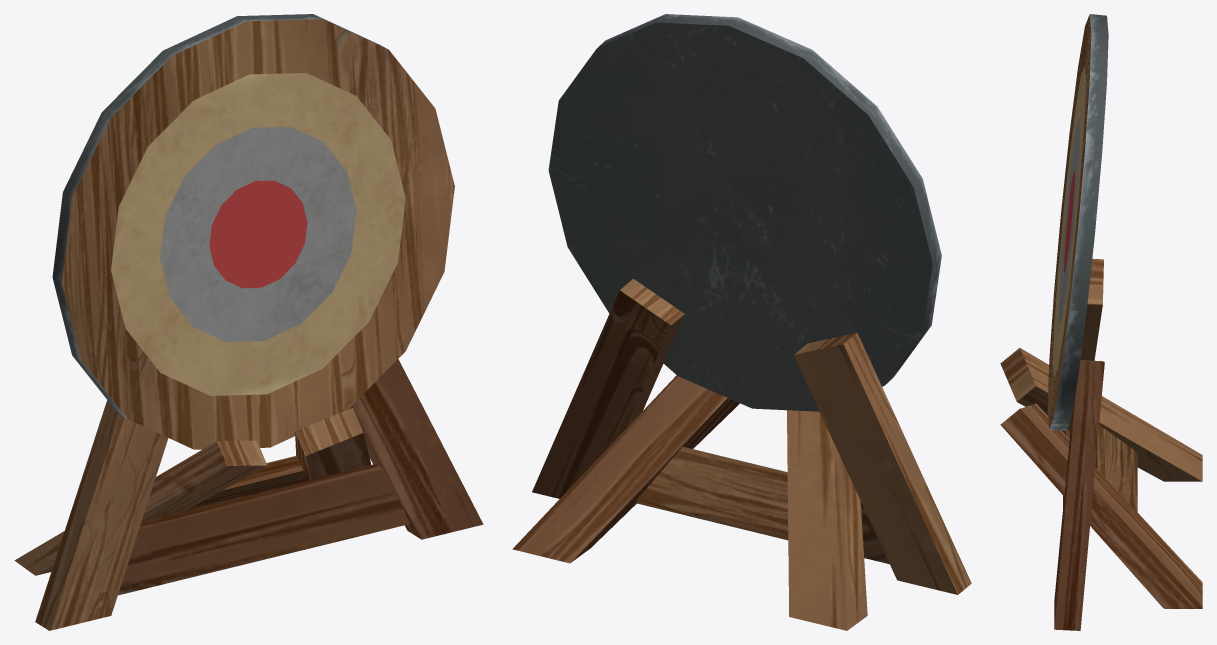
File: Target_Shooting.fbx
3 renders of one model, left to right at view 1: azimuth 30°, elevation 25°; view 2: azimuth 150°, elevation 25°; view 3: azimuth 270°, elevation 25°, orthographic. The views are drawn at different scales.
Parts seen in each view (by area): view 1: Target, Structure_Target; view 2: Target, Structure_Target; view 3: Structure_Target, Target.
Boxes of the visible parts, x1,y1,x2,y2 form: Target: (52, 14, 454, 449); Structure_Target: (14, 359, 483, 630); Target: (548, 14, 941, 411); Structure_Target: (512, 279, 971, 630); Structure_Target: (1000, 258, 1202, 630); Target: (1047, 14, 1108, 430).
Bounding box in the file's own units: 177 × 211 × 77.43.
